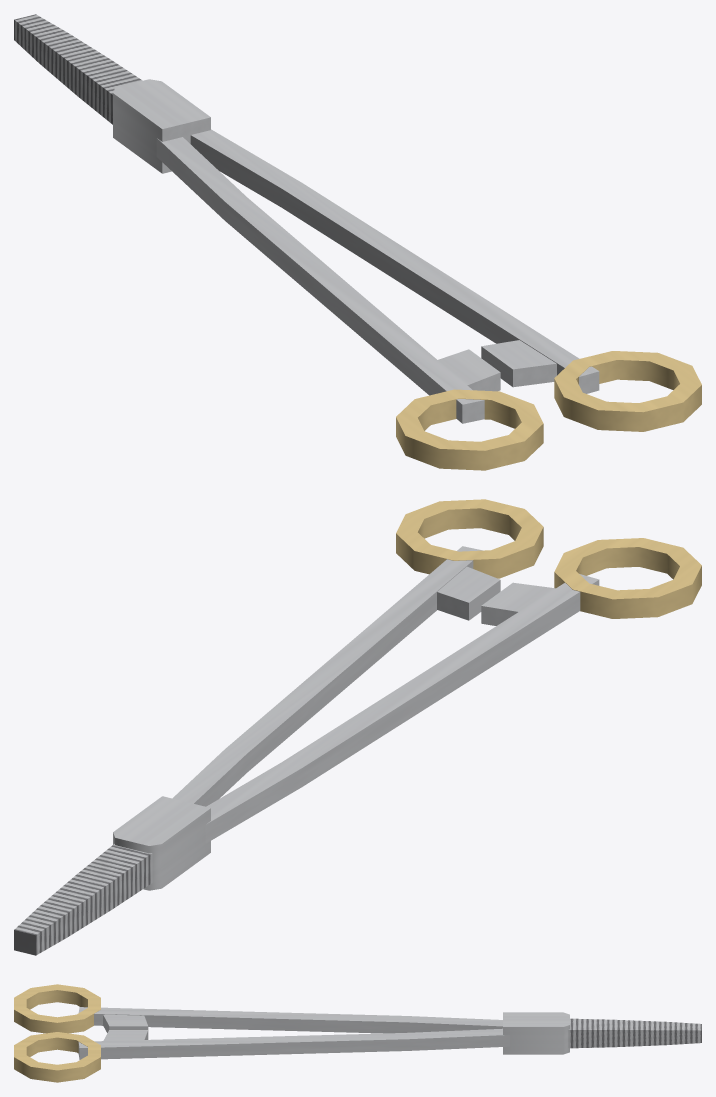
The model's file is s7_mayo_hegar.glb.
3 views of the same model, one above another, from view 1: azimuth 30°, elevation 25°; view 2: azimuth 150°, elevation 25°; view 3: azimuth 270°, elevation 25° (orthographic). The views are drawn at different scales.
Parts seen in each view (by area): view 1: s7_mayo_hegar; view 2: s7_mayo_hegar; view 3: s7_mayo_hegar.
Boxes of the visible parts, x1,y1,x2,y2 form: s7_mayo_hegar: [14, 14, 701, 470]; s7_mayo_hegar: [14, 499, 701, 955]; s7_mayo_hegar: [14, 984, 701, 1082].
Size of the model in its own units: 0.0471 by 0.007 by 0.159.
1 material, 1 textured.
